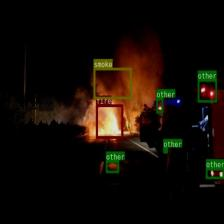fire: (95, 104, 123, 138)
smoke: (94, 68, 132, 99)
